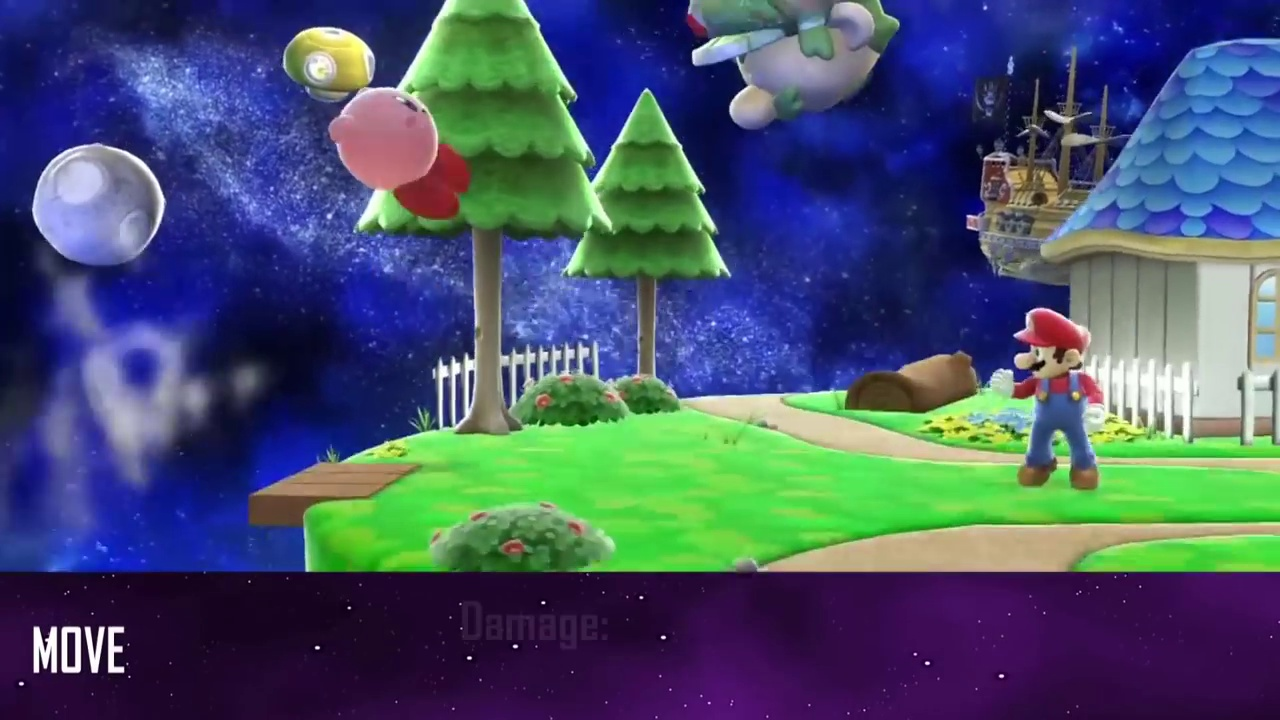Mario: (989, 308, 1107, 488)
